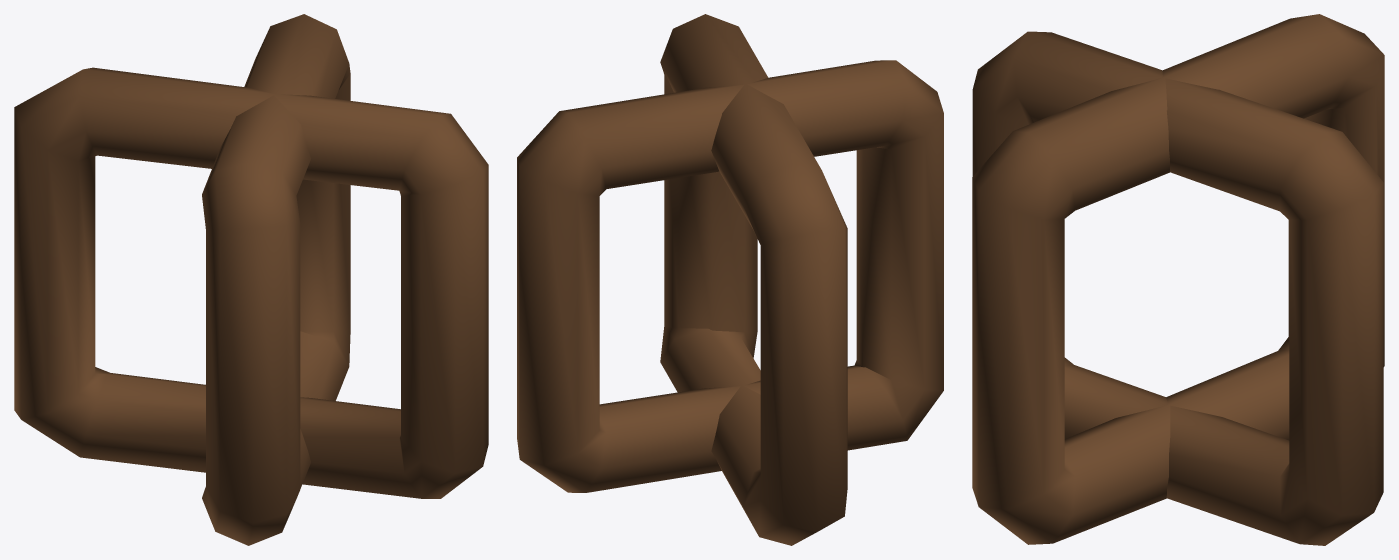
File: SM_Rope_02.fbx
3 views of the same model, side by side, from view 1: azimuth 30°, elevation 25°; view 2: azimuth 150°, elevation 25°; view 3: azimuth 270°, elevation 25° (orthographic). The views are drawn at different scales.
Visible parts, largest first — view 1: Cube.035; view 2: Cube.035; view 3: Cube.035.
Part boxes in pixels (left/top/right/bottom): Cube.035: left=14, top=14, right=488, bottom=545; Cube.035: left=517, top=14, right=943, bottom=545; Cube.035: left=972, top=14, right=1384, bottom=545.
Bounding box in the file's own units: 0.4761 × 0.5406 × 0.486.
